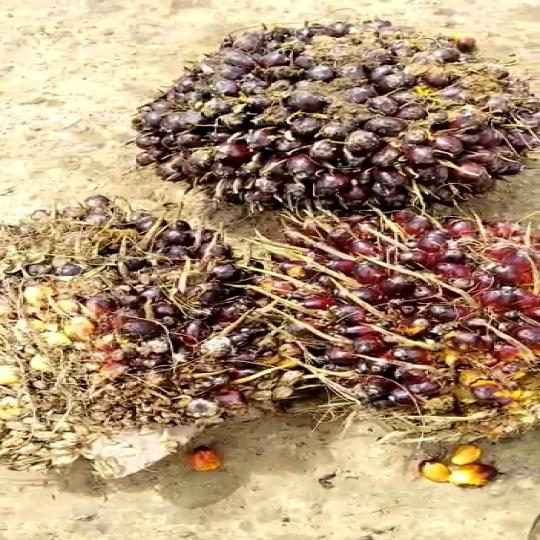kurang masak: (0, 190, 288, 500), (133, 19, 540, 224), (260, 208, 540, 458)
